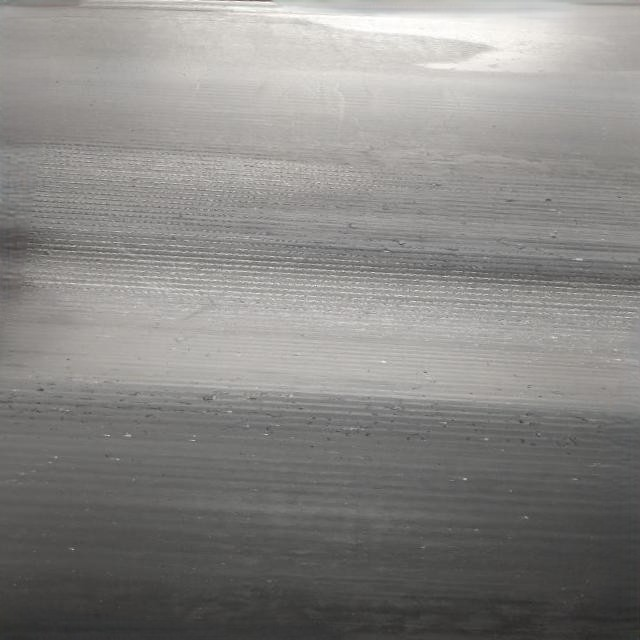Wear: (0, 130, 640, 342)
